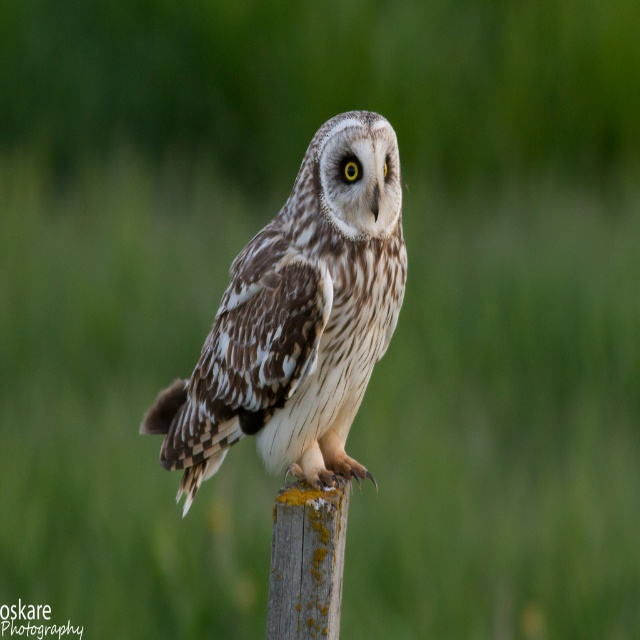Owl: (136, 111, 412, 522)
